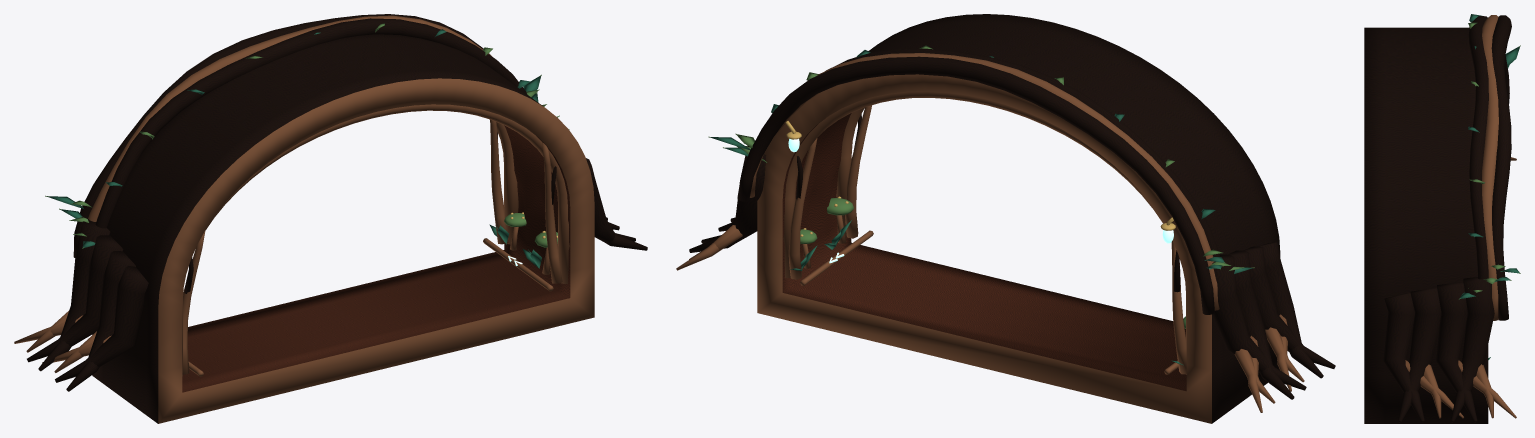
The model's file is portal_exit.glb.
3 renders of one model, left to right at view 1: azimuth 30°, elevation 25°; view 2: azimuth 150°, elevation 25°; view 3: azimuth 270°, elevation 25°, orthographic. The views are drawn at different scales.
Visible parts, largest first — view 1: TunnelGeometry; view 2: TunnelGeometry; view 3: TunnelGeometry.
Part boxes in pixels (x1,y1,x2,y2): TunnelGeometry: (14,14,647,423); TunnelGeometry: (676,14,1335,423); TunnelGeometry: (1364,14,1520,423).
Bounding box in the file's own units: 20.35 × 9.87 × 5.05.
Materials: 7 (2 with a texture image).
